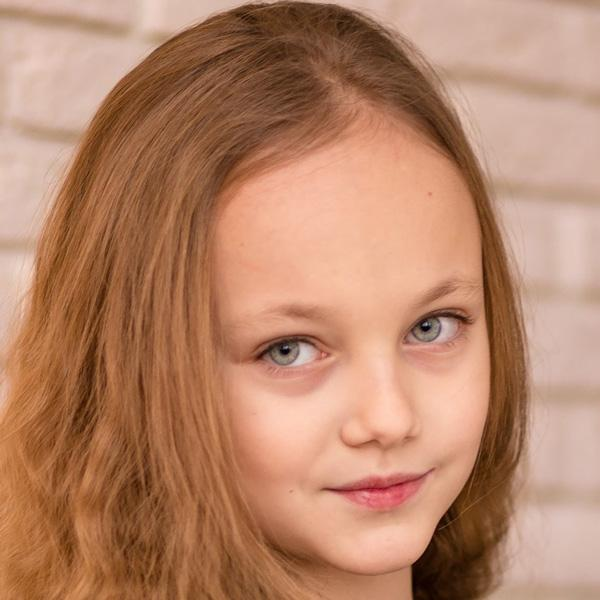Eyes: (241, 325, 340, 382), (391, 301, 478, 354)
